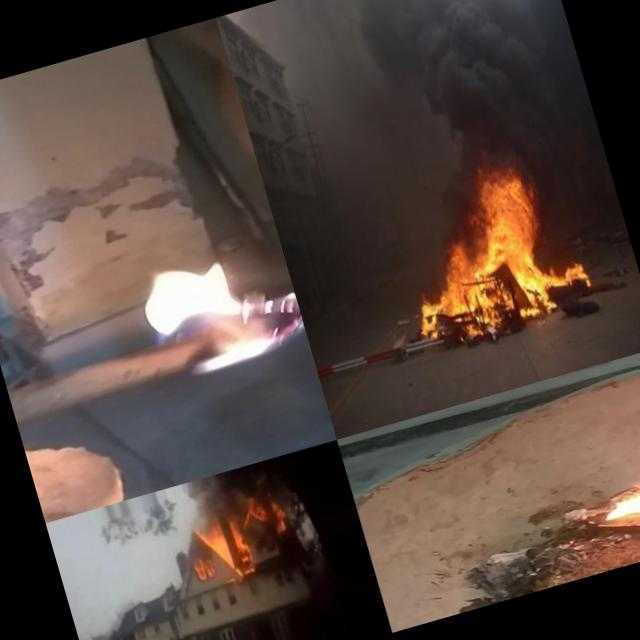fire: (106, 222, 314, 406), (391, 161, 596, 334), (589, 442, 640, 566), (235, 486, 288, 540), (192, 552, 218, 584)
smoke: (401, 0, 603, 188), (340, 0, 445, 133), (91, 472, 235, 556), (241, 0, 364, 96)
